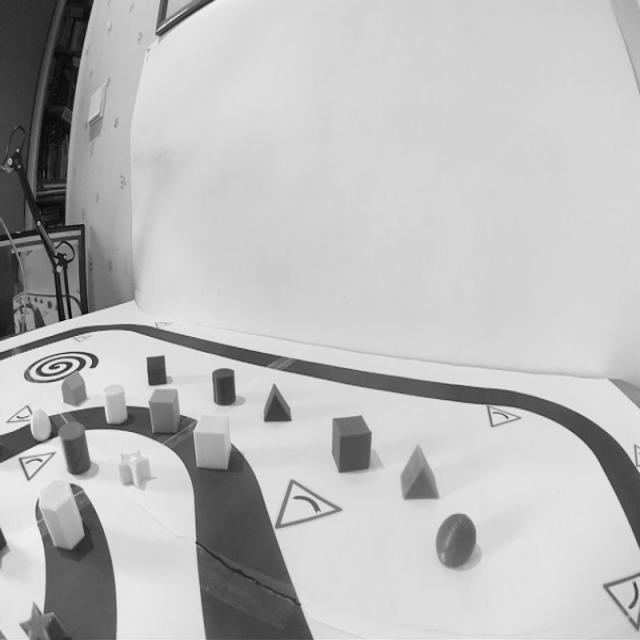ball: (431, 506, 481, 573), (28, 403, 56, 445)
cube: (189, 408, 237, 476), (328, 409, 375, 475), (145, 384, 186, 438)
cylinder: (55, 416, 95, 477), (101, 382, 133, 429), (210, 364, 240, 410)
hexagon: (36, 475, 89, 552)
home: (58, 369, 89, 409)
nest: (21, 349, 101, 388)
star: (13, 595, 73, 640), (115, 444, 154, 496)
triangle: (398, 439, 443, 504), (260, 379, 294, 426)
